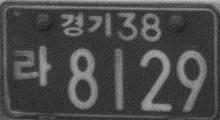1: (104, 47, 134, 111)
2: (139, 48, 172, 112)
3: (116, 11, 137, 42)
8: (66, 46, 99, 110), (139, 12, 162, 43)
9: (176, 49, 208, 113)
경기_O: (59, 12, 112, 38)
라: (12, 44, 51, 87)
